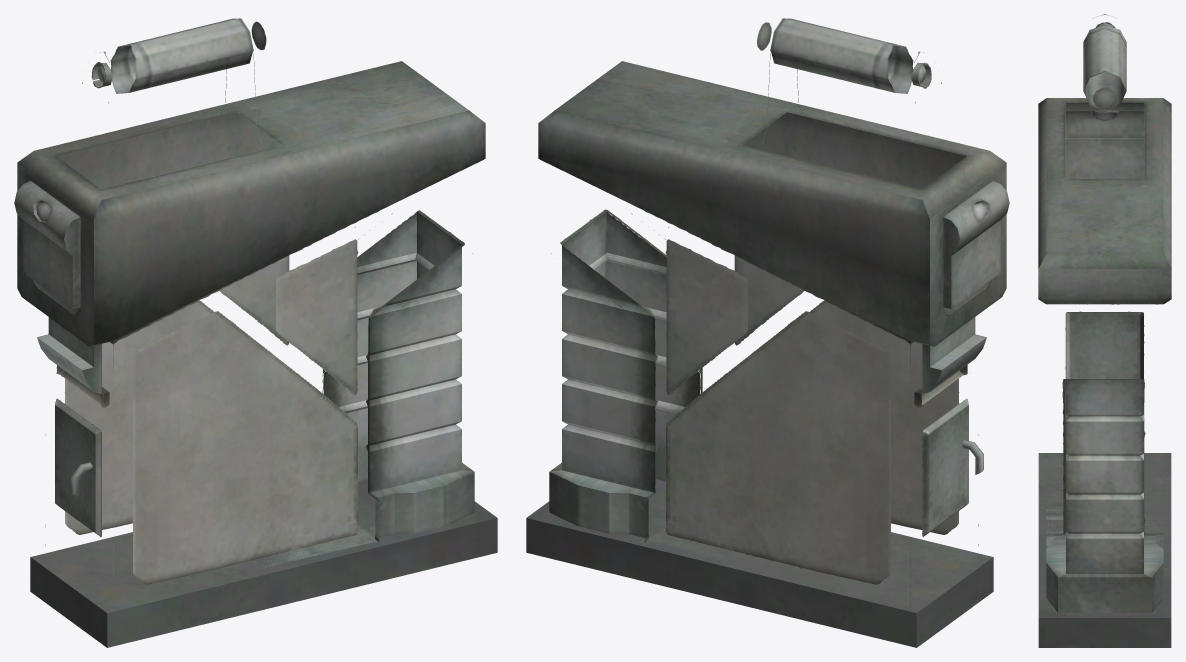
Rendered from eqp_comp_ammo_chaff_l0.fbx.
3 views of the same model, side by side, from view 1: azimuth 30°, elevation 25°; view 2: azimuth 150°, elevation 25°; view 3: azimuth 270°, elevation 25° (orthographic). The views are drawn at different scales.
Parts seen in each view (by area): view 1: mesh_node; view 2: mesh_node; view 3: mesh_node.
Boxes of the visible parts, x1,y1,x2,y2 form: mesh_node: [14, 18, 497, 647]; mesh_node: [526, 18, 1009, 647]; mesh_node: [1038, 14, 1171, 647].
Bounding box in the file's own units: 0.5057 × 0.6435 × 0.1603.
1 material, 1 textured.
